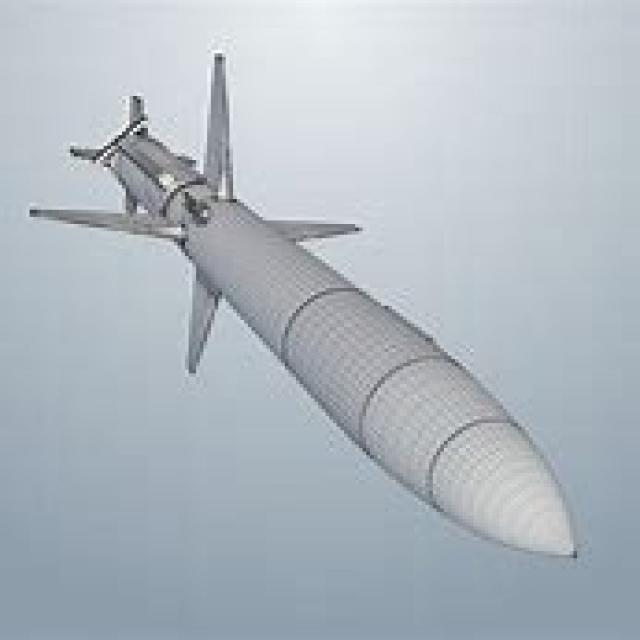missile: (31, 51, 583, 562)
